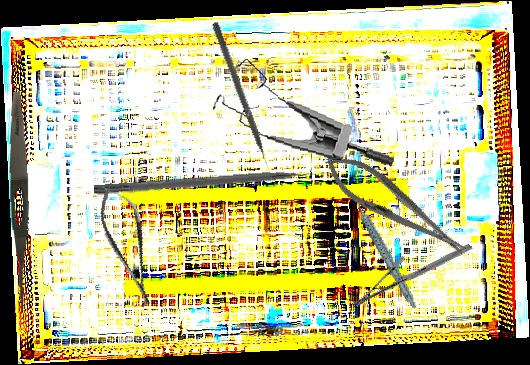Dressing Forceps: (6, 91, 34, 312)
Handpiece: (354, 187, 418, 316)
Micro Scissor: (90, 177, 165, 312)
Needle Holder: (314, 142, 475, 269), (352, 208, 474, 343)
Pusher: (209, 20, 275, 179), (93, 167, 331, 198)
Speculum: (208, 55, 404, 168)
